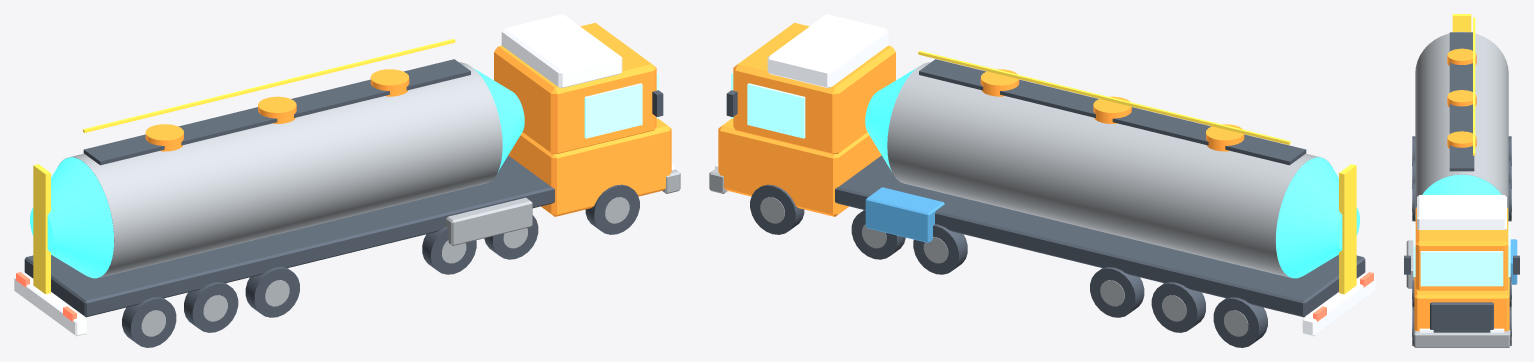
File: tank-truck-v4-low.glb
3 renders of one model, left to right at view 1: azimuth 30°, elevation 25°; view 2: azimuth 150°, elevation 25°; view 3: azimuth 270°, elevation 25°, orthographic. The views are drawn at different scales.
Visible parts, largest first — view 1: tank-truck-v4-high.glb-v5_bulk_silver, tank-truck-v4-high.glb-v5_bulk_gunmetal, tank-truck-v4-high.glb-v5_bulk_orange, tank-truck-v4-high.glb-v5_bulk_cyan, tank-truck-v4-high.glb-v5_cr20_white_mark, tank-truck-v4-high.glb-v5_bulk_yellow, tank-truck-v4-high.glb-v5_bulk_glass; view 2: tank-truck-v4-high.glb-v5_bulk_silver, tank-truck-v4-high.glb-v5_bulk_gunmetal, tank-truck-v4-high.glb-v5_bulk_orange, tank-truck-v4-high.glb-v5_bulk_cyan, tank-truck-v4-high.glb-v5_cr20_white_mark, tank-truck-v4-high.glb-v5_bulk_yellow, tank-truck-v4-high.glb-v5_tilter_blue, tank-truck-v4-high.glb-v5_bulk_glass; view 3: tank-truck-v4-high.glb-v5_bulk_silver, tank-truck-v4-high.glb-v5_bulk_orange, tank-truck-v4-high.glb-v5_bulk_gunmetal, tank-truck-v4-high.glb-v5_bulk_glass, tank-truck-v4-high.glb-v5_cr20_white_mark, tank-truck-v4-high.glb-v5_bulk_cyan, tank-truck-v4-high.glb-v5_bulk_yellow, tank-truck-v4-high.glb-v5_tilter_blue.
Boxes of the visible parts, bbox=[...] form: tank-truck-v4-high.glb-v5_bulk_silver: bbox=[59, 62, 680, 336]; tank-truck-v4-high.glb-v5_bulk_gunmetal: bbox=[24, 59, 663, 347]; tank-truck-v4-high.glb-v5_bulk_orange: bbox=[145, 22, 671, 216]; tank-truck-v4-high.glb-v5_bulk_cyan: bbox=[30, 68, 524, 278]; tank-truck-v4-high.glb-v5_cr20_white_mark: bbox=[14, 14, 674, 336]; tank-truck-v4-high.glb-v5_bulk_yellow: bbox=[33, 39, 455, 294]; tank-truck-v4-high.glb-v5_bulk_glass: bbox=[584, 72, 658, 138]; tank-truck-v4-high.glb-v5_bulk_silver: bbox=[709, 62, 1330, 336]; tank-truck-v4-high.glb-v5_bulk_gunmetal: bbox=[726, 59, 1365, 347]; tank-truck-v4-high.glb-v5_bulk_orange: bbox=[718, 22, 1244, 216]; tank-truck-v4-high.glb-v5_bulk_cyan: bbox=[865, 68, 1359, 278]; tank-truck-v4-high.glb-v5_cr20_white_mark: bbox=[715, 14, 1375, 336]; tank-truck-v4-high.glb-v5_bulk_yellow: bbox=[918, 51, 1356, 294]; tank-truck-v4-high.glb-v5_tilter_blue: bbox=[865, 187, 944, 242]; tank-truck-v4-high.glb-v5_bulk_glass: bbox=[731, 72, 805, 138]; tank-truck-v4-high.glb-v5_bulk_silver: bbox=[1406, 31, 1511, 347]; tank-truck-v4-high.glb-v5_bulk_orange: bbox=[1414, 48, 1509, 331]; tank-truck-v4-high.glb-v5_bulk_gunmetal: bbox=[1404, 32, 1519, 345]; tank-truck-v4-high.glb-v5_bulk_glass: bbox=[1413, 225, 1510, 286]; tank-truck-v4-high.glb-v5_cr20_white_mark: bbox=[1417, 195, 1506, 332]; tank-truck-v4-high.glb-v5_bulk_cyan: bbox=[1415, 174, 1508, 218]; tank-truck-v4-high.glb-v5_bulk_yellow: bbox=[1452, 14, 1475, 155]; tank-truck-v4-high.glb-v5_tilter_blue: bbox=[1510, 239, 1517, 284].
Size of the model in its own units: 13.82 by 4.21 by 3.02.
